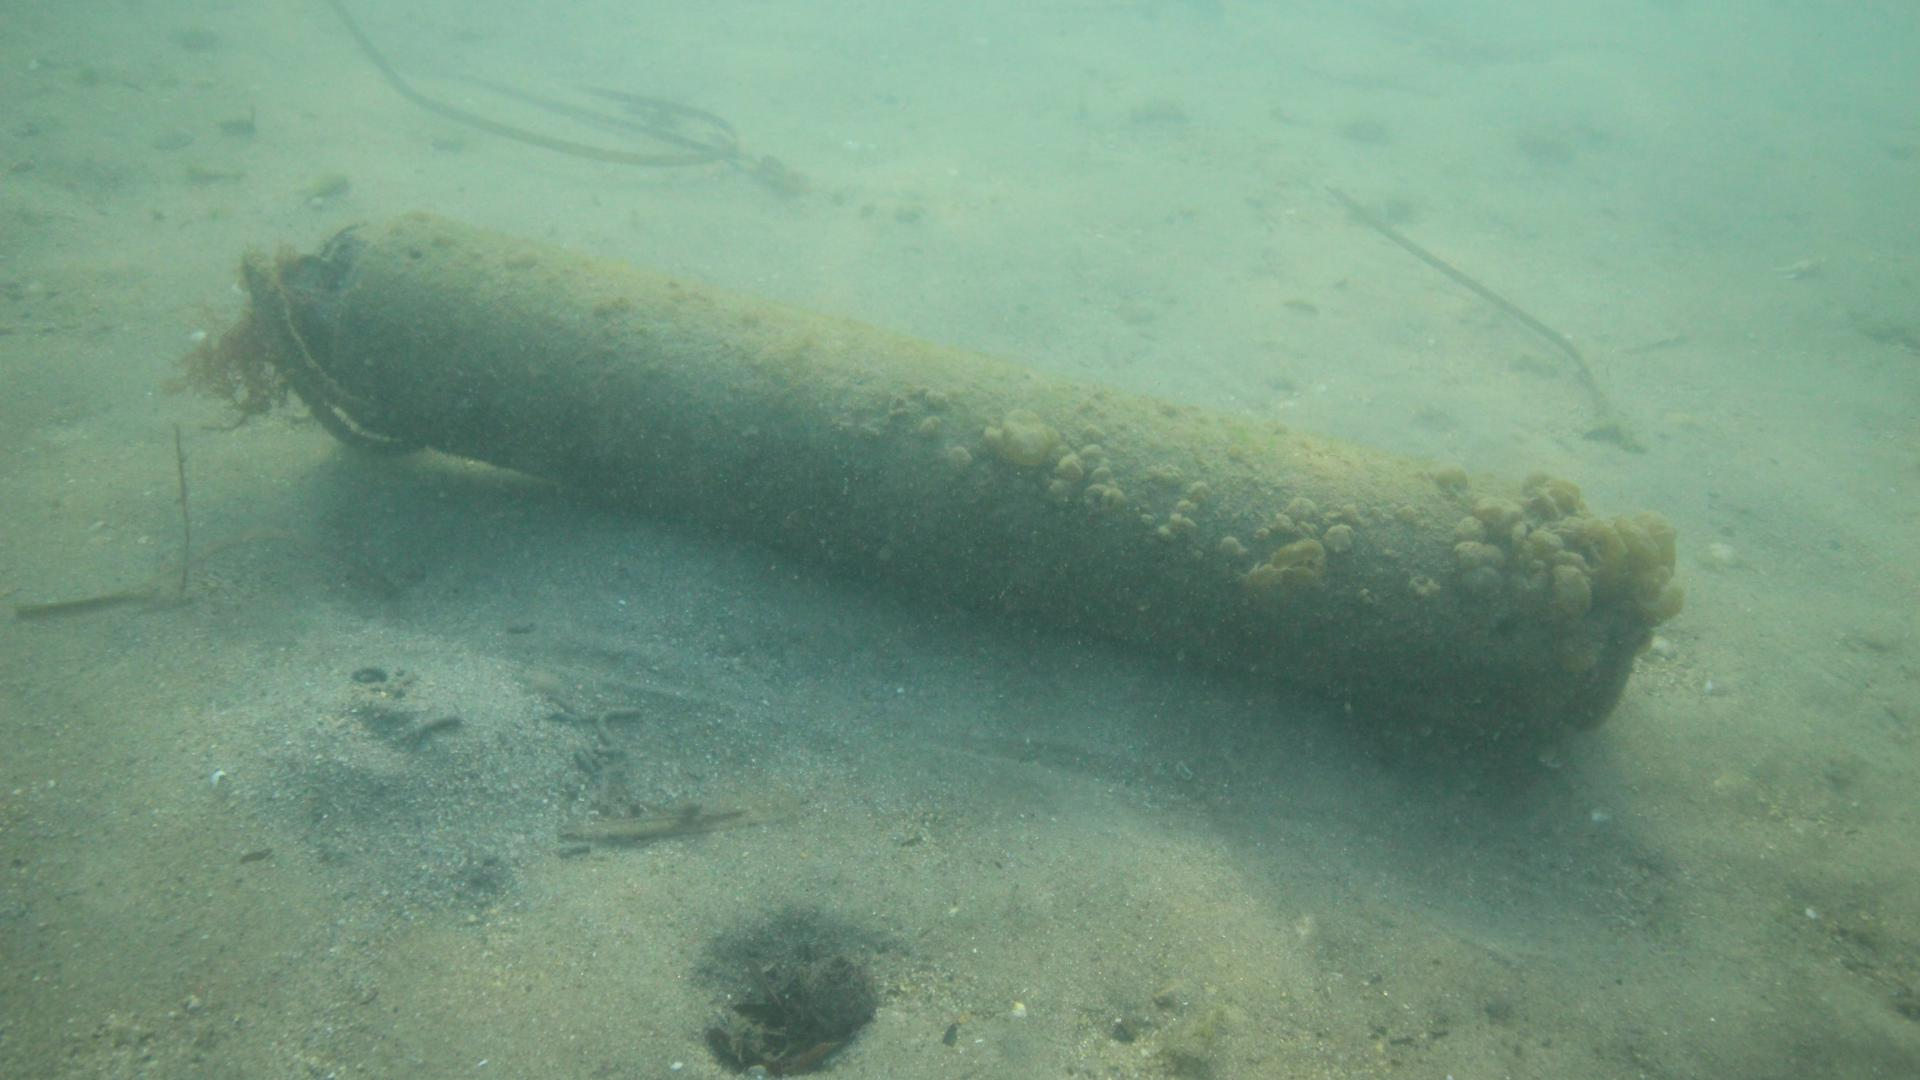eel fish trap: (294, 210, 1656, 742)
